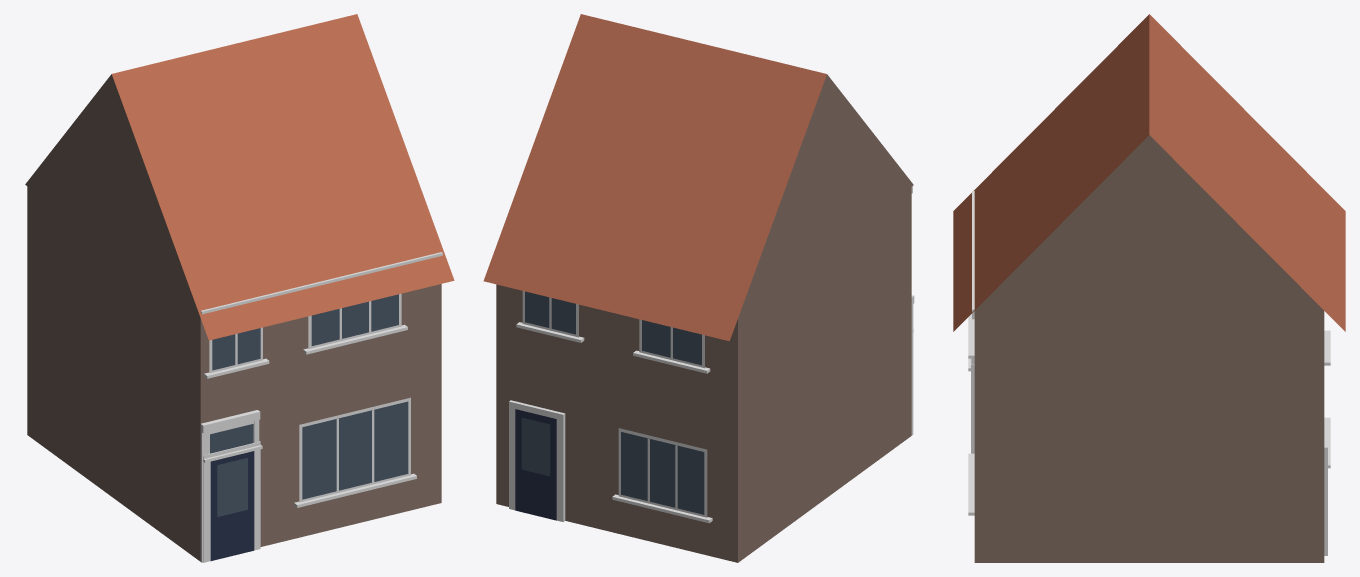
The model's file is nn-row__wide-orange__2__gable__long__solid.glb.
The picture shows the model from 3 angles, left to right: view 1: azimuth 30°, elevation 25°; view 2: azimuth 150°, elevation 25°; view 3: azimuth 270°, elevation 25°; orthographic projection.
Parts seen in each view (by area): view 1: nn-row__wide-orange__2__gable__long__solid; view 2: nn-row__wide-orange__2__gable__long__solid; view 3: nn-row__wide-orange__2__gable__long__solid.
Boxes of the visible parts, x1=… form: nn-row__wide-orange__2__gable__long__solid: x1=25, y1=14, x2=454, y2=562; nn-row__wide-orange__2__gable__long__solid: x1=483, y1=14, x2=914, y2=562; nn-row__wide-orange__2__gable__long__solid: x1=953, y1=14, x2=1345, y2=562.
Size of the model in its own units: 5.33 by 8.81 by 7.3.
